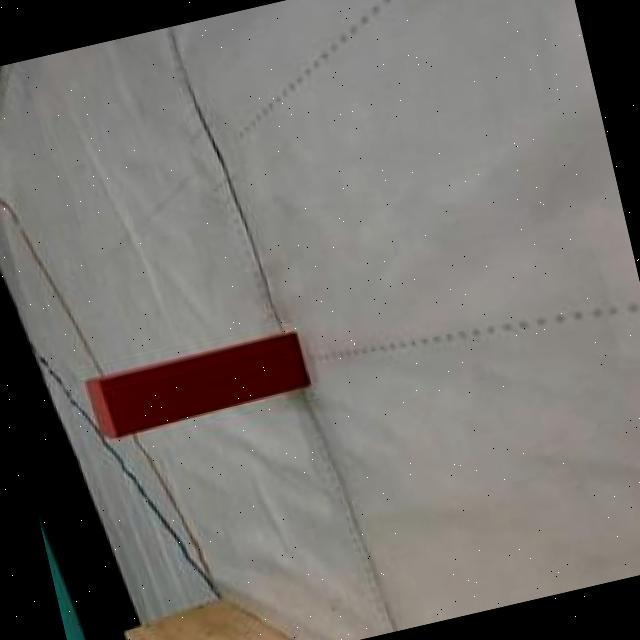redbox: (78, 328, 311, 444)
